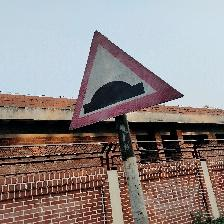Speed-breaker: (69, 30, 185, 129)
